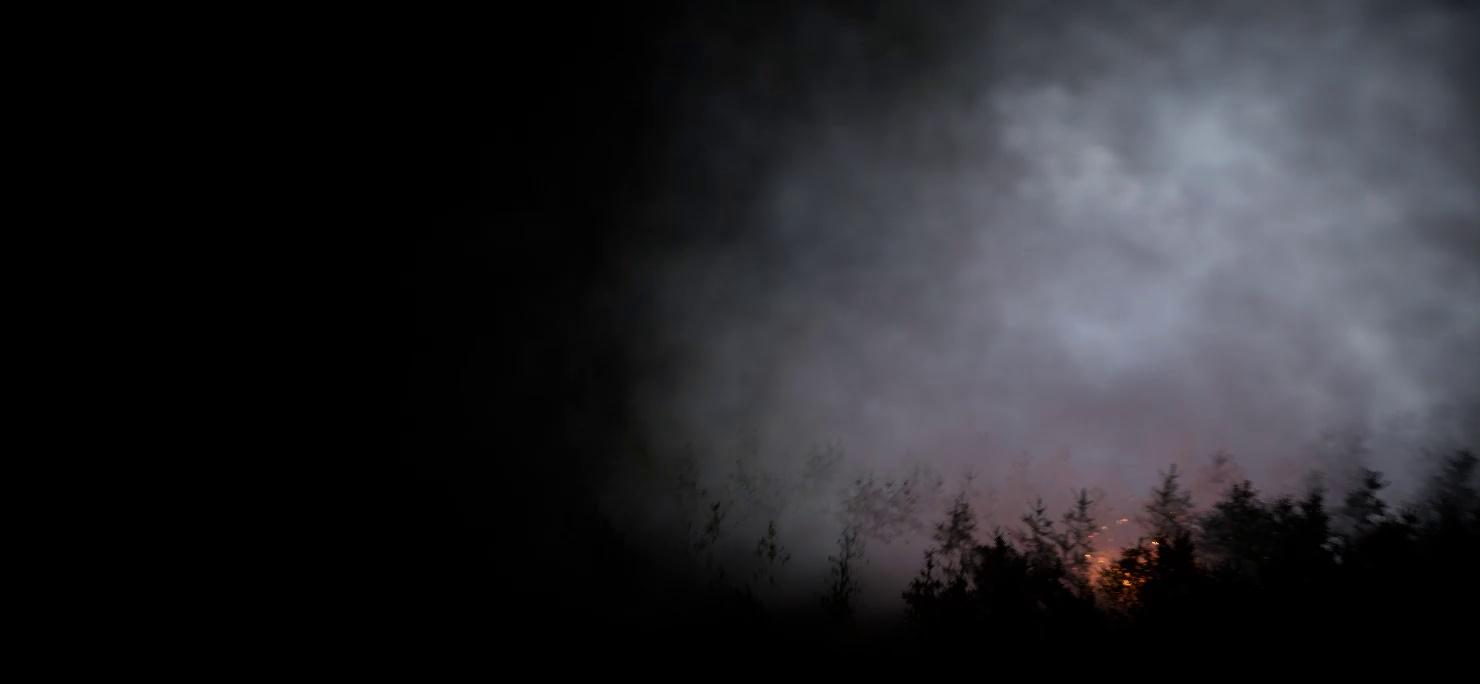fire: (1072, 524, 1160, 591)
smoke: (631, 0, 1479, 603)
